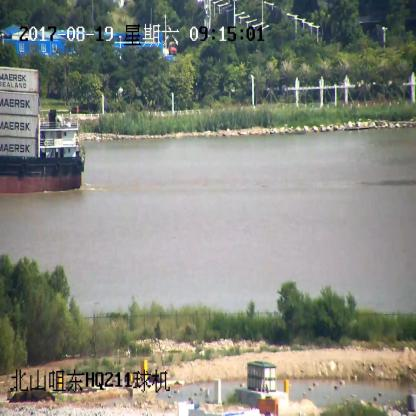Container Ship: (0, 67, 84, 193)
